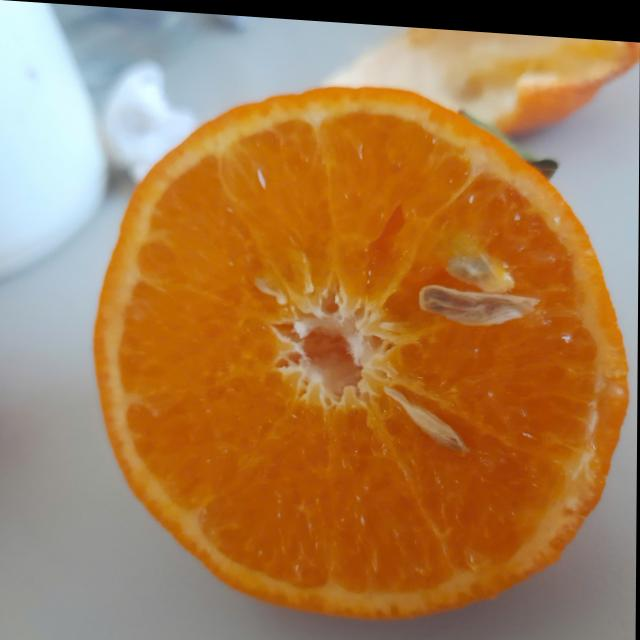Cam: (76, 64, 634, 633)
